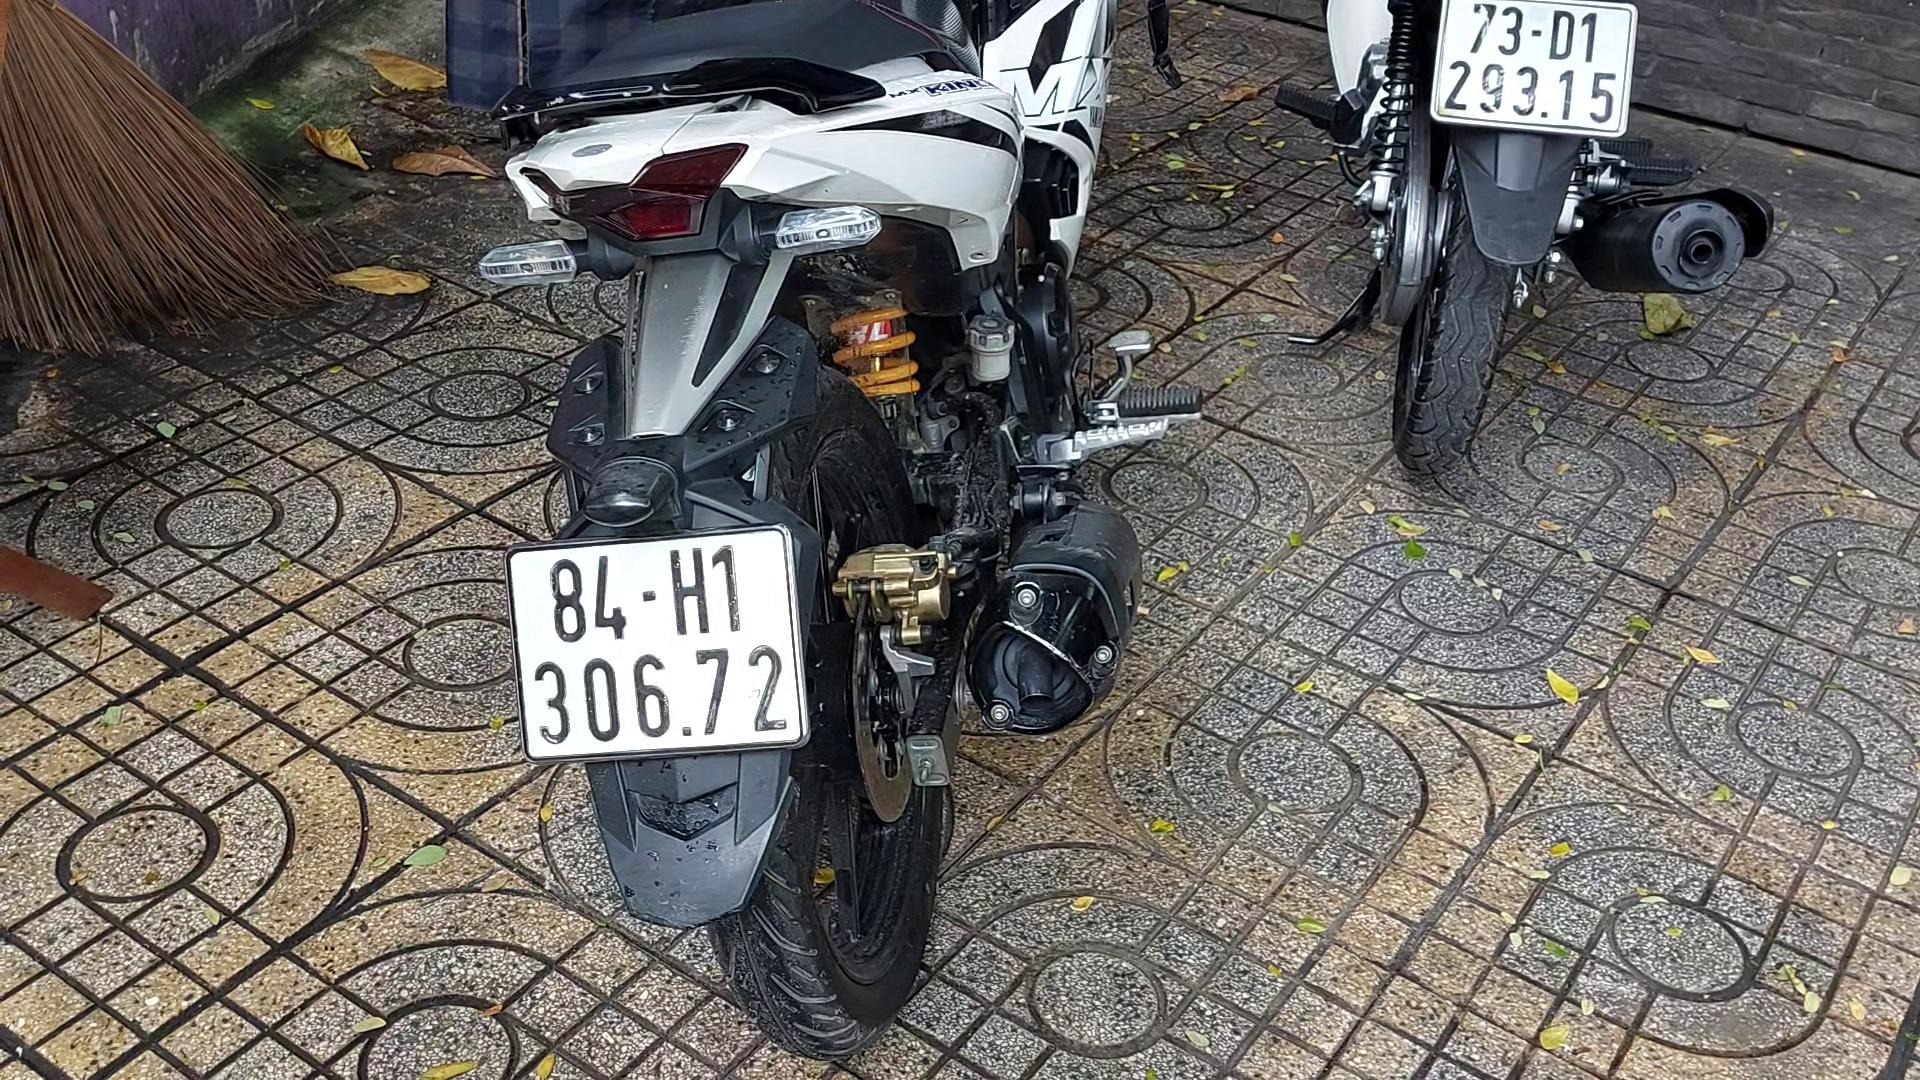numplate: (477, 507, 850, 760), (1427, 0, 1647, 137)
